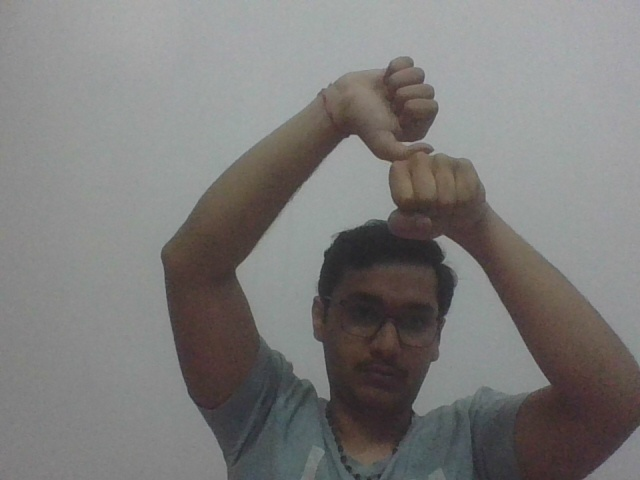S: (334, 56, 495, 243)
